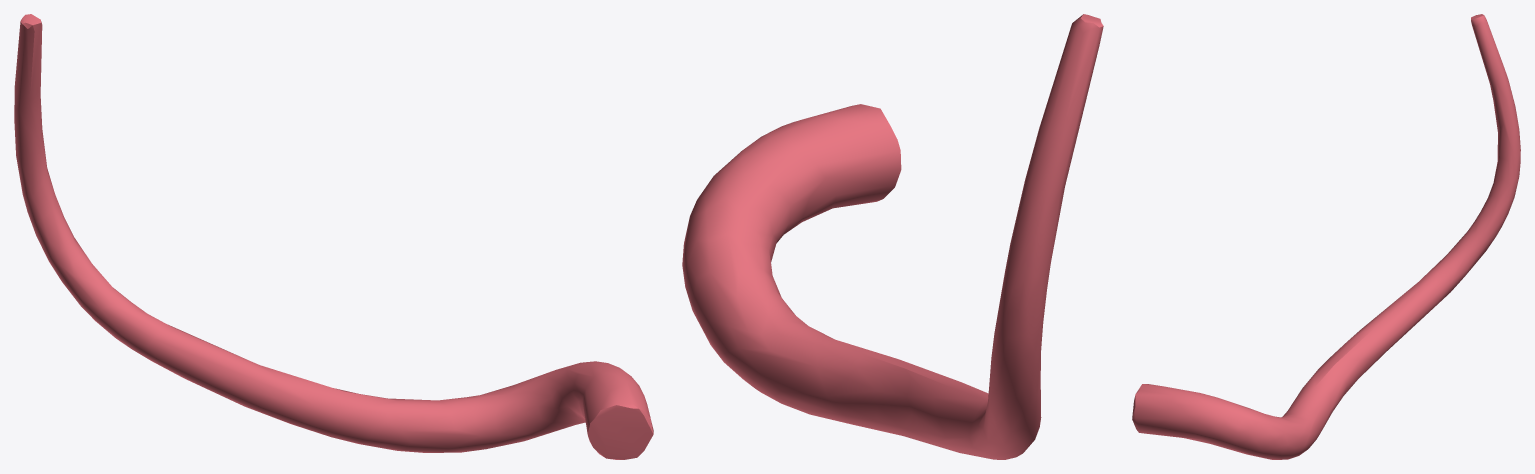
Rendered from fma8619_fj6088.glb.
3 renders of one model, left to right at view 1: azimuth 30°, elevation 25°; view 2: azimuth 150°, elevation 25°; view 3: azimuth 270°, elevation 25°, orthographic. The views are drawn at different scales.
Visible parts, largest first — view 1: FMA8619_FJ6088; view 2: FMA8619_FJ6088; view 3: FMA8619_FJ6088.
Boxes of the visible parts, x1=… form: FMA8619_FJ6088: x1=14, y1=14, x2=653, y2=459; FMA8619_FJ6088: x1=682, y1=14, x2=1103, y2=459; FMA8619_FJ6088: x1=1132, y1=14, x2=1520, y2=459.
Bounding box in the file's own units: 0.0448 × 0.0417 × 0.0462.
